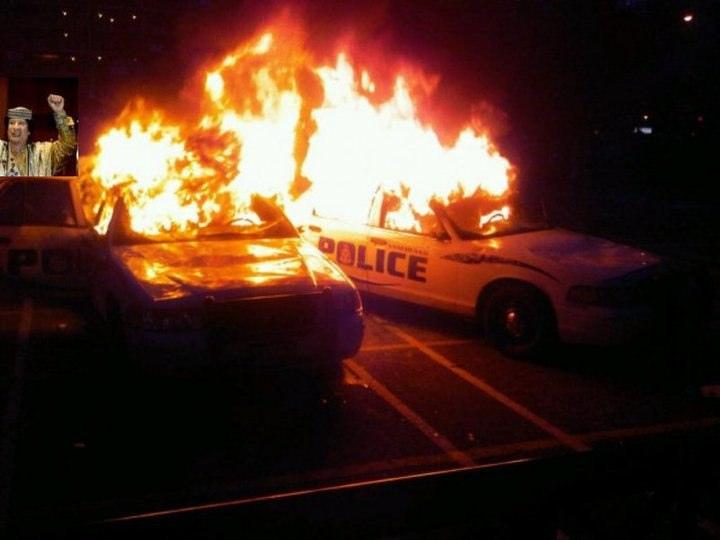fire: (337, 111, 484, 223), (93, 120, 206, 229), (241, 89, 306, 230)
